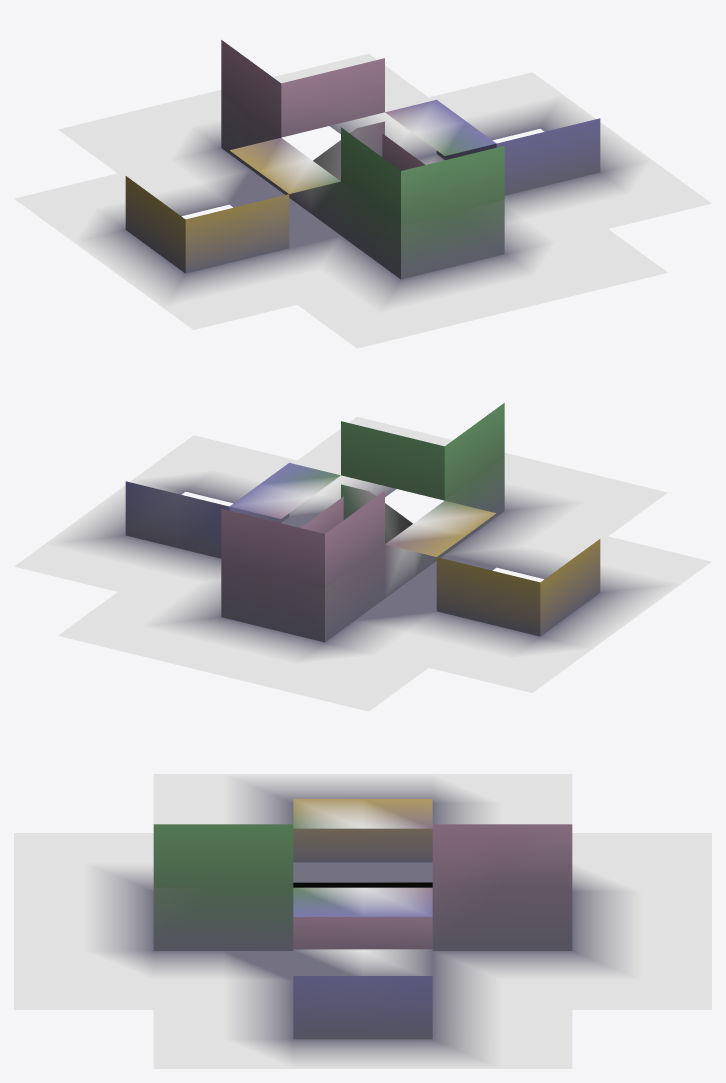
The model's file is mapOld.glb.
3 views of the same model, one above another, from view 1: azimuth 30°, elevation 25°; view 2: azimuth 150°, elevation 25°; view 3: azimuth 270°, elevation 25° (orthographic). The views are drawn at different scales.
Visible parts, largest first — view 1: map, gate; view 2: map, gate; view 3: map, gate.
Boxes of the visible parts, x1,y1,x2,y2 form: map: [14, 40, 711, 348]; gate: [382, 133, 424, 170]; map: [14, 403, 711, 711]; gate: [301, 496, 343, 533]; map: [14, 774, 711, 1068]; gate: [293, 917, 432, 949].
Size of the model in its own units: 39.97 by 10.6 by 39.97.
